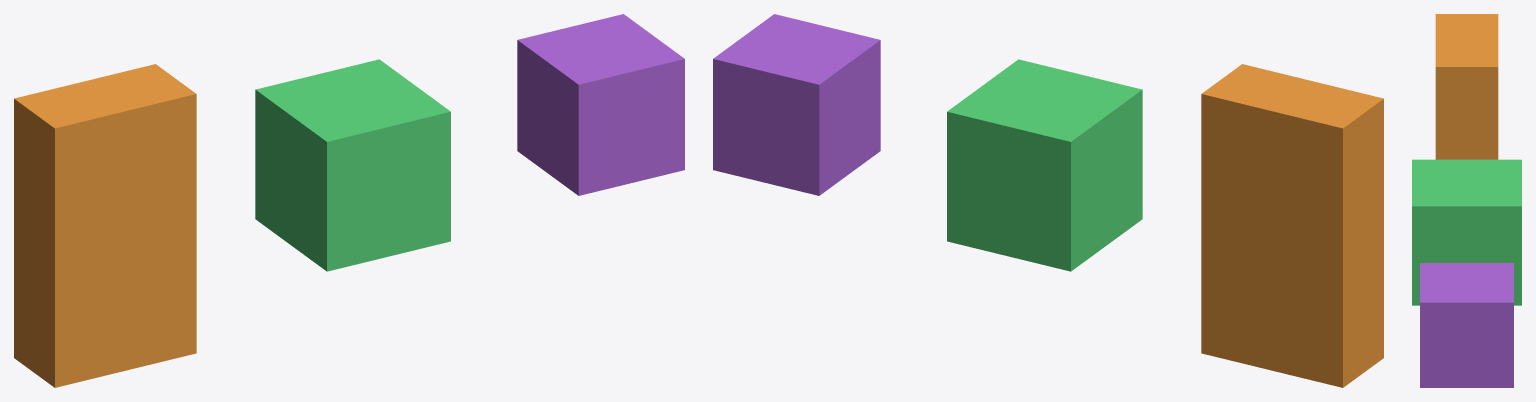
Rendered from animated.glb.
3 views of the same model, side by side, from view 1: azimuth 30°, elevation 25°; view 2: azimuth 150°, elevation 25°; view 3: azimuth 270°, elevation 25° (orthographic). The views are drawn at different scales.
Visible parts, largest first — view 1: Spinner, Bouncer, Pulser; view 2: Spinner, Bouncer, Pulser; view 3: Bouncer, Pulser, Spinner.
Part boxes in pixels (x1,y1,x2,y2): Spinner: [14, 64, 196, 387]; Bouncer: [255, 59, 450, 271]; Pulser: [517, 14, 684, 195]; Spinner: [1201, 64, 1383, 387]; Bouncer: [947, 59, 1142, 271]; Pulser: [713, 14, 880, 195]; Bouncer: [1412, 159, 1521, 305]; Pulser: [1420, 263, 1513, 387]; Spinner: [1435, 14, 1498, 159].
Size of the model in its own units: 3.5 by 1.4 by 0.7.
